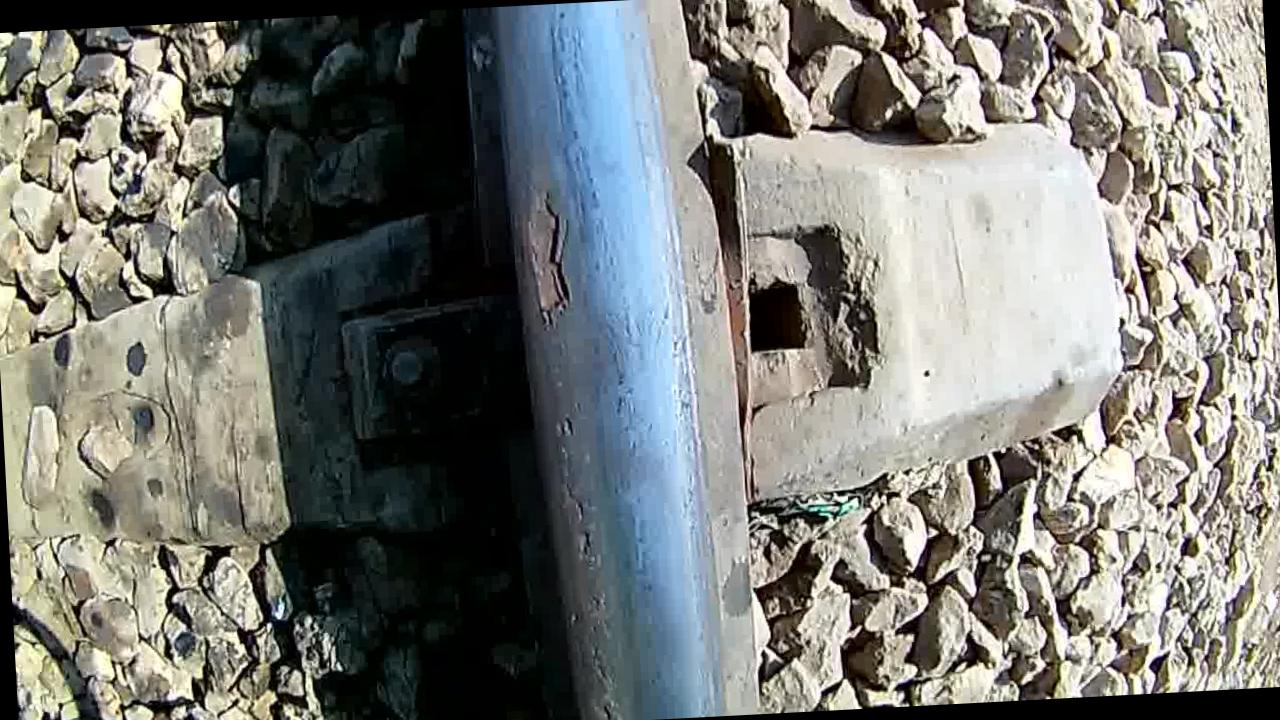crack: (490, 2, 705, 720)
